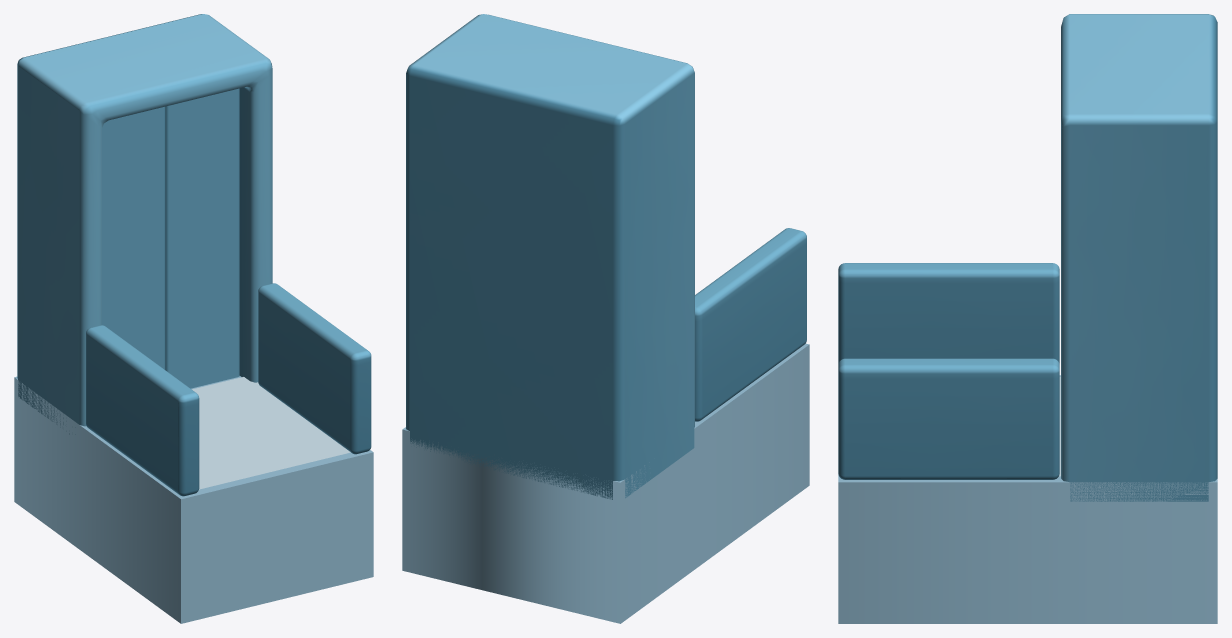
Rendered from Elevator1.fbx.
The picture shows the model from 3 angles, left to right: view 1: azimuth 30°, elevation 25°; view 2: azimuth 150°, elevation 25°; view 3: azimuth 270°, elevation 25°; orthographic projection. The views are drawn at different scales.
Visible parts, largest first — view 1: Elevator, Door1, Door; view 2: Elevator; view 3: Elevator.
Part boxes in pixels (box(x1,y1,x2,y2)): Elevator: box(14, 14, 373, 623); Door1: box(165, 88, 239, 388); Door: box(102, 106, 165, 369); Elevator: box(402, 14, 809, 623); Elevator: box(838, 14, 1217, 623).
Bounding box in the file's own units: 1 × 2.21 × 1.5.
Materials: 1 (1 with a texture image).
